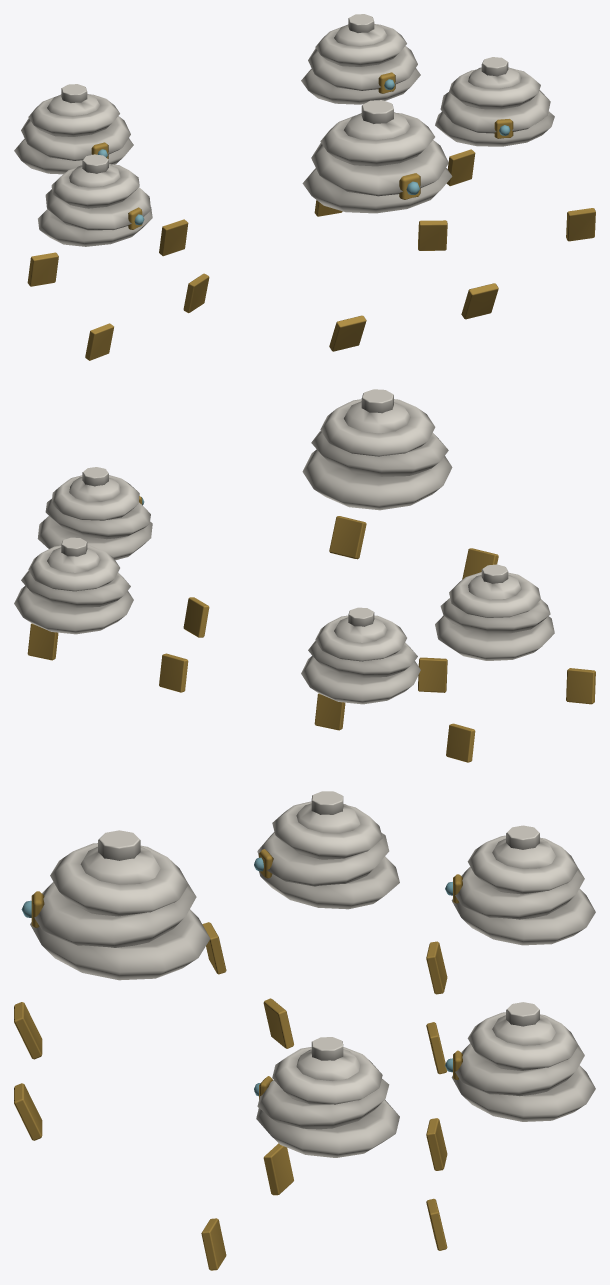
File: lather-linen-lod1.glb
3 renders of one model, top to bottom at view 1: azimuth 30°, elevation 25°; view 2: azimuth 150°, elevation 25°; view 3: azimuth 270°, elevation 25°, orthographic. The views are drawn at different scales.
Visible parts, largest first — view 1: cap_hat, att2_hat, att3_hat, att0_hat, att1_hat, cap_arm_r_trim, cap_arm_l_trim, att2_arm_r_trim, att2_arm_l_trim, att1_arm_r_trim, att1_arm_l_trim, att0_arm_l_trim (+2 smaller); view 2: cap_hat, att3_hat, att0_hat, att1_hat, att2_hat, cap_arm_l_trim, att3_arm_r_trim, att3_arm_l_trim, att0_arm_r_trim, att1_arm_r_trim, att0_arm_l_trim, att1_arm_l_trim (+2 smaller); view 3: cap_hat, att2_hat, att1_hat, att0_hat, att3_hat, att2_arm_r_trim, cap_arm_l_trim, cap_arm_r_trim, att3_arm_l_trim, att2_arm_l_trim, att0_arm_r_trim, att1_arm_r_trim (+1 smaller).
Part boxes in pixels (x1,y1,x2,y2): cap_hat: [302, 100, 452, 213]; att2_hat: [435, 57, 554, 146]; att3_hat: [38, 154, 152, 246]; att0_hat: [301, 14, 420, 104]; att1_hat: [14, 84, 133, 174]; cap_arm_r_trim: [329, 315, 366, 351]; cap_arm_l_trim: [461, 283, 498, 319]; att2_arm_r_trim: [418, 220, 447, 250]; att2_arm_l_trim: [566, 208, 595, 241]; att1_arm_r_trim: [27, 252, 58, 286]; att1_arm_l_trim: [159, 219, 188, 256]; att0_arm_l_trim: [446, 149, 475, 186]; cap_hat: [302, 389, 452, 510]; att3_hat: [435, 564, 554, 660]; att0_hat: [14, 537, 133, 634]; att1_hat: [301, 607, 420, 704]; att2_hat: [37, 467, 152, 560]; cap_arm_l_trim: [329, 516, 366, 559]; att3_arm_r_trim: [566, 668, 595, 704]; att3_arm_l_trim: [418, 657, 447, 692]; att0_arm_r_trim: [159, 653, 188, 692]; att1_arm_r_trim: [446, 723, 475, 762]; att0_arm_l_trim: [27, 623, 58, 660]; att1_arm_l_trim: [314, 693, 345, 730]; cap_hat: [21, 830, 210, 980]; att2_hat: [254, 1037, 399, 1157]; att1_hat: [445, 825, 595, 945]; att0_hat: [445, 1002, 595, 1121]; att3_hat: [254, 791, 399, 909]; att2_arm_r_trim: [263, 1143, 293, 1195]; cap_arm_l_trim: [14, 1083, 42, 1140]; cap_arm_r_trim: [14, 1002, 42, 1059]; att3_arm_l_trim: [263, 998, 293, 1048]; att2_arm_l_trim: [201, 1218, 226, 1270]; att0_arm_r_trim: [426, 1118, 447, 1170]; att1_arm_r_trim: [426, 941, 447, 994].
Bounding box in the file's own units: 2.2 × 0.9092 × 1.73.
